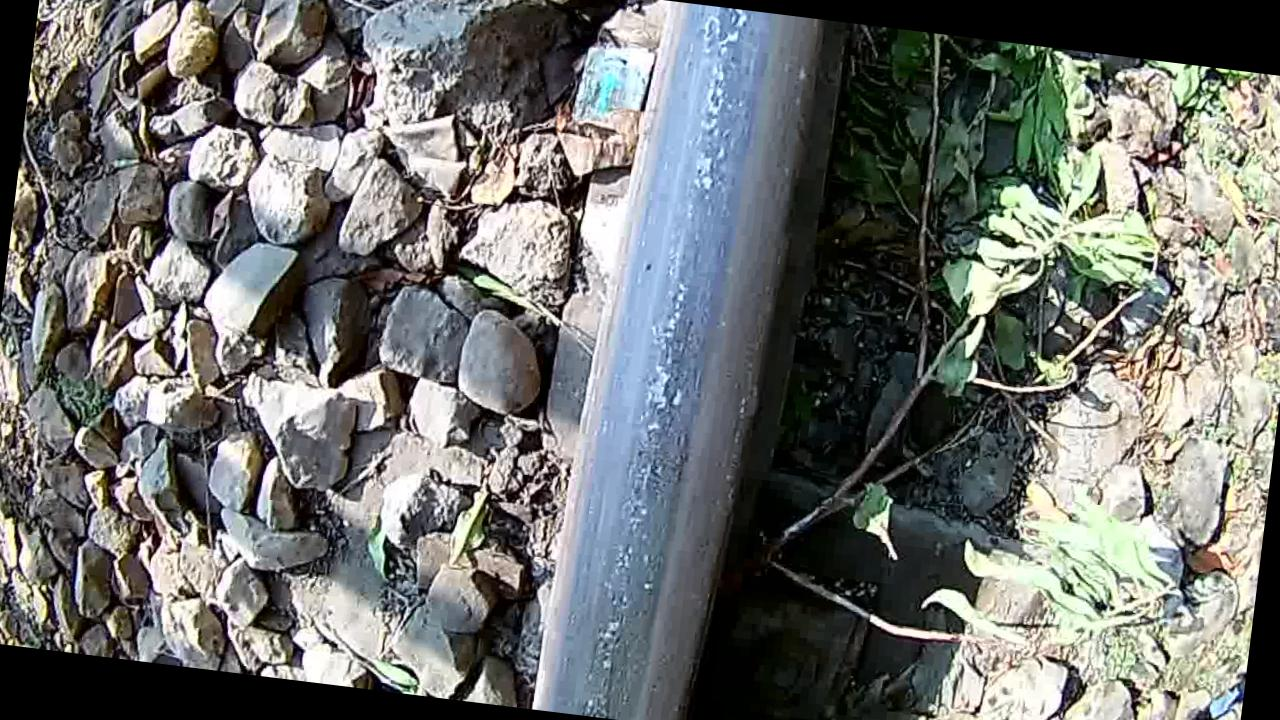crack: (553, 0, 817, 720)
